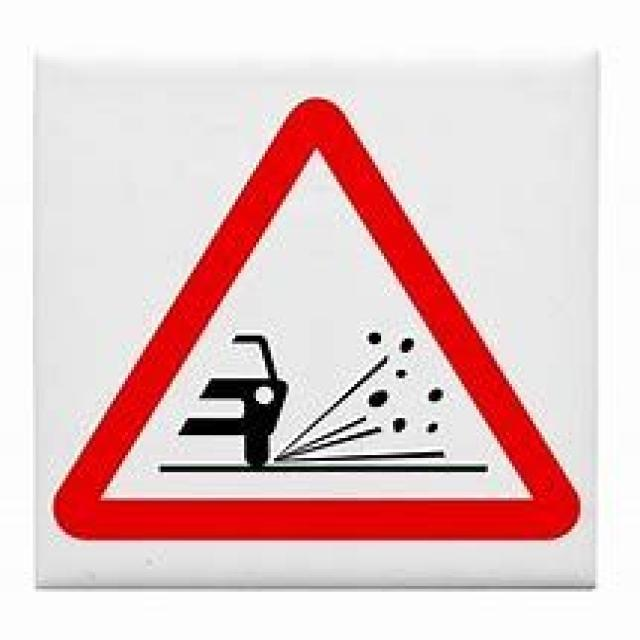loose gravel: (54, 95, 582, 540)
